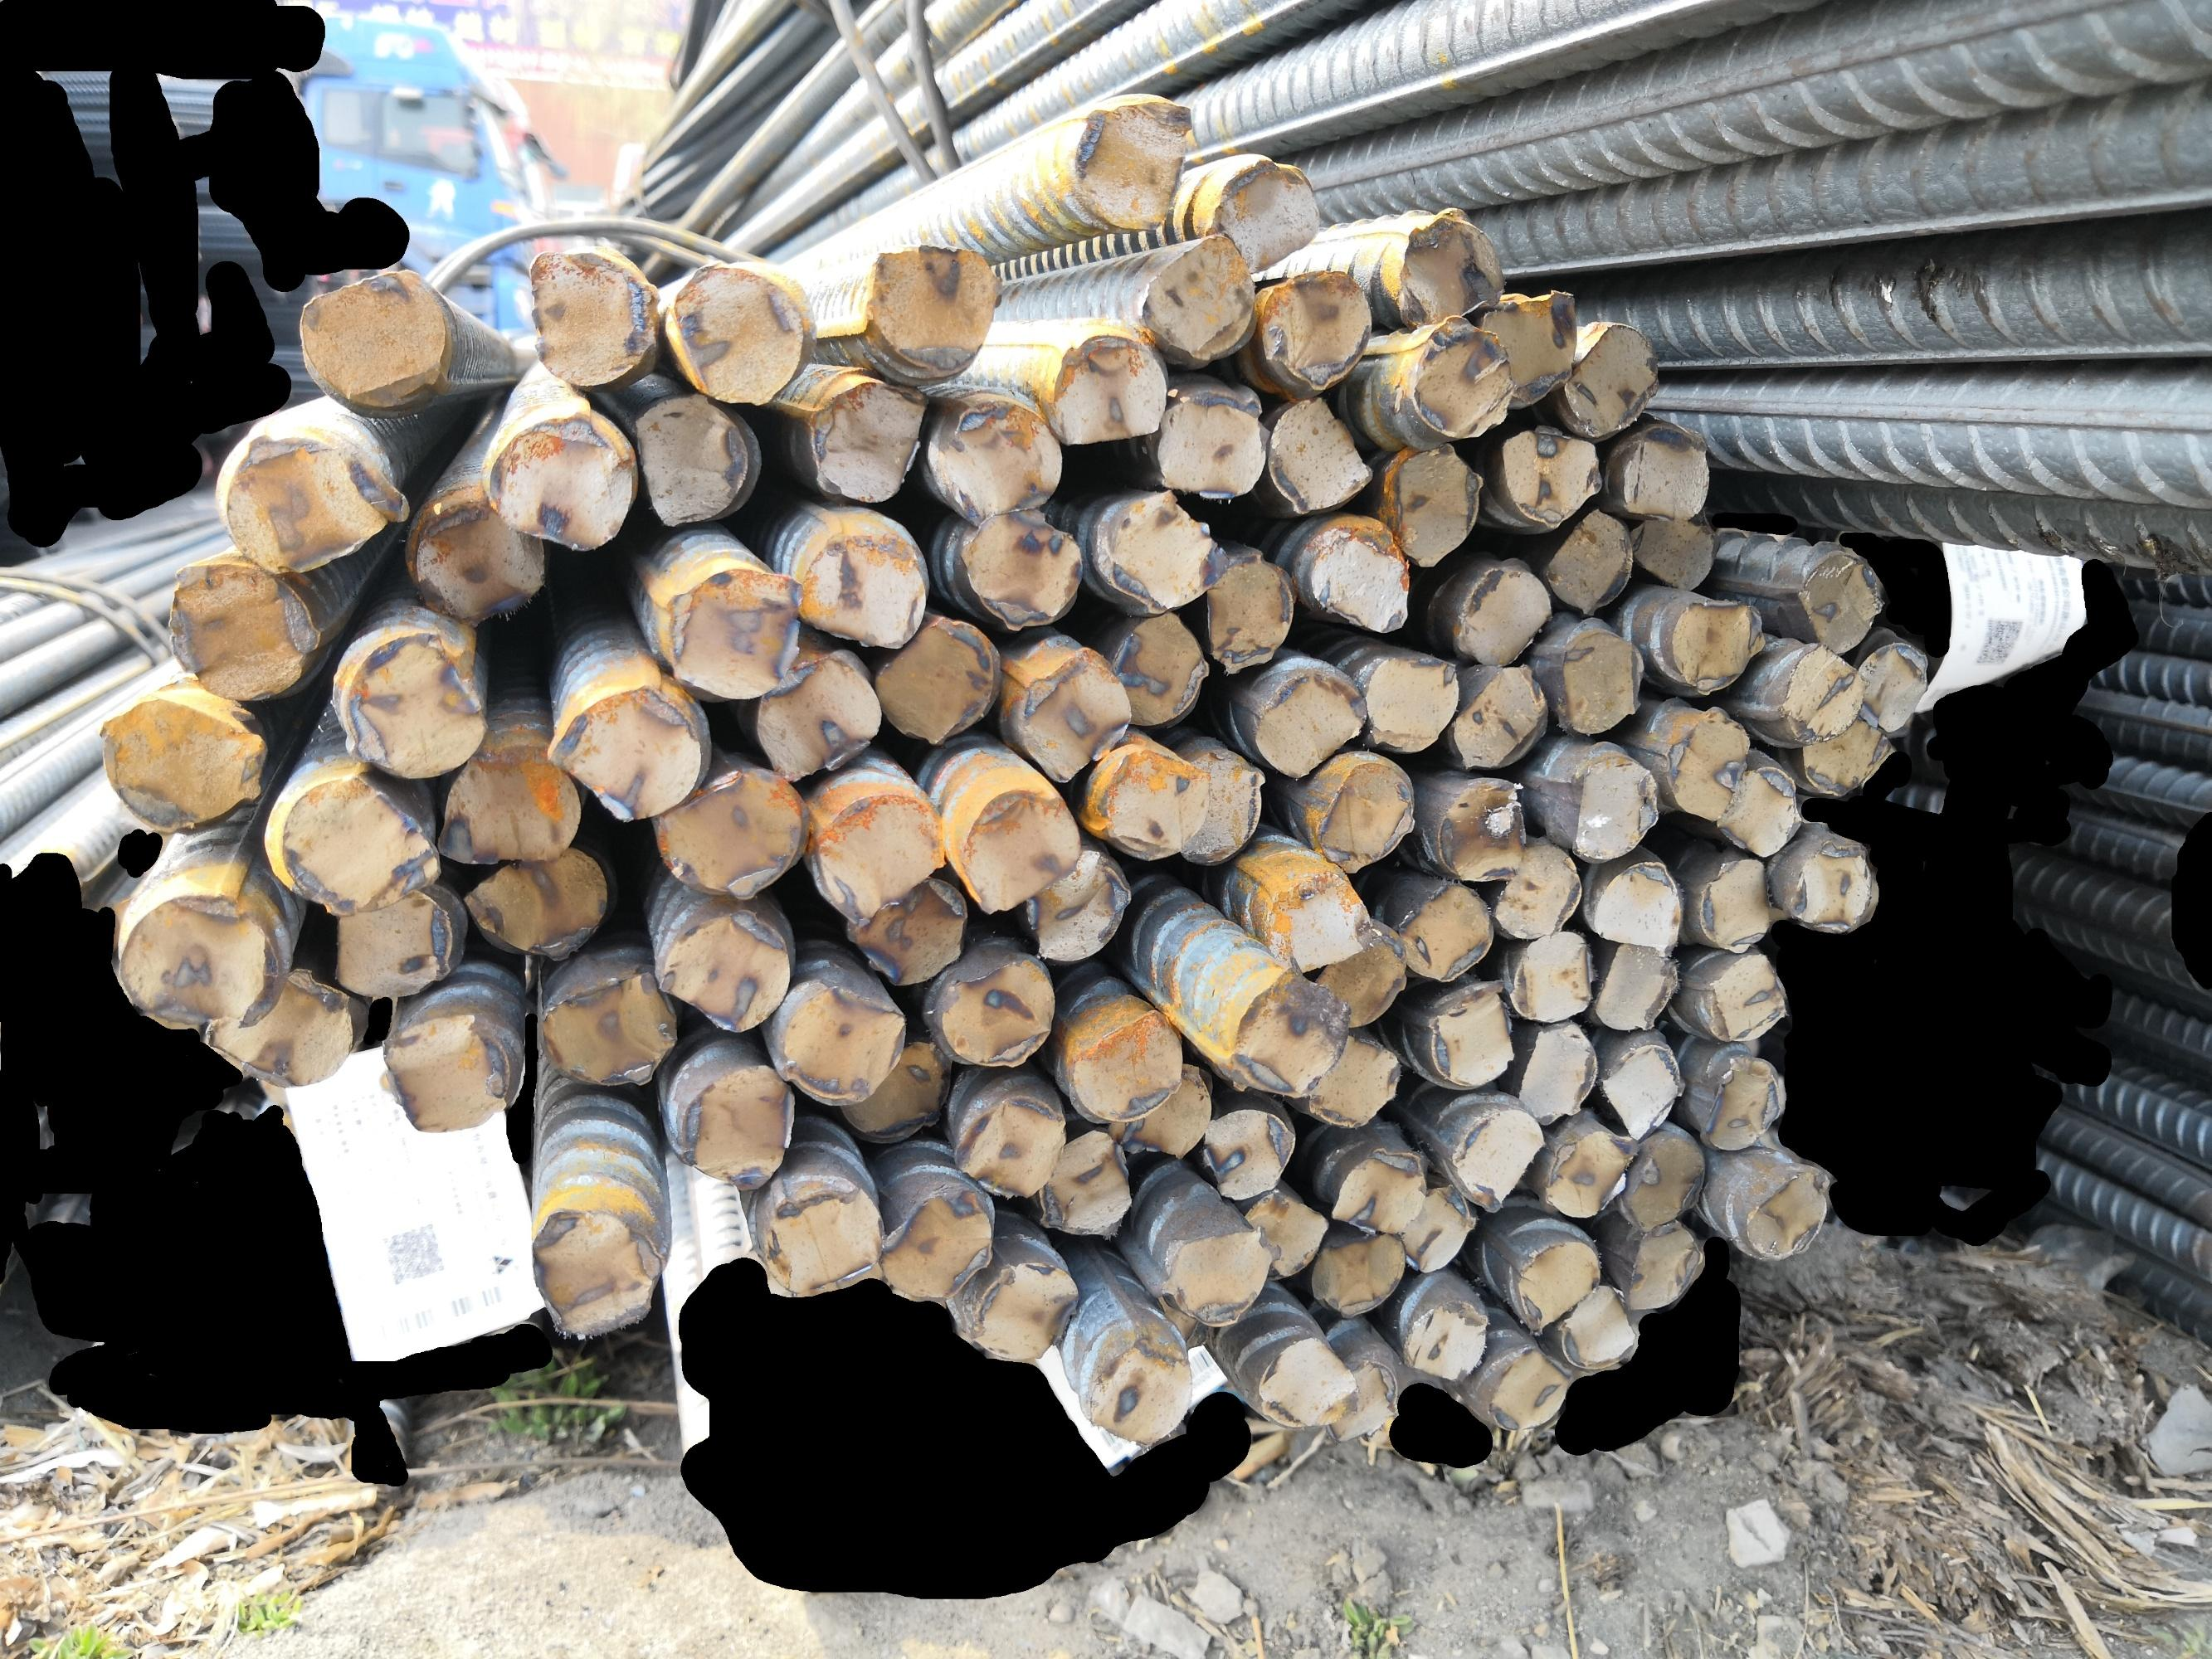bar: (213, 427, 413, 580), (91, 687, 274, 833), (113, 880, 286, 1033), (268, 769, 446, 917), (160, 559, 331, 708), (535, 680, 708, 826), (331, 624, 488, 781), (291, 265, 451, 415), (479, 408, 640, 556), (666, 254, 809, 411), (650, 763, 809, 903), (427, 732, 586, 868), (664, 559, 809, 706), (403, 484, 551, 627), (809, 784, 952, 931), (861, 239, 1011, 378), (525, 1199, 668, 1342), (199, 964, 357, 1091), (1225, 958, 1363, 1105), (1089, 479, 1236, 617), (453, 843, 615, 967), (525, 244, 659, 390), (746, 647, 884, 788), (650, 903, 795, 1037), (533, 967, 685, 1091), (952, 782, 1089, 918), (866, 610, 999, 751), (1011, 640, 1137, 786), (626, 387, 751, 532), (1069, 92, 1194, 235), (777, 976, 910, 1110), (791, 523, 929, 652), (378, 1009, 512, 1140), (1135, 225, 1262, 362), (804, 373, 936, 504), (936, 394, 1065, 525), (955, 500, 1084, 631), (1252, 261, 1377, 396), (675, 1056, 795, 1192), (1062, 1000, 1187, 1127), (1046, 326, 1173, 450), (757, 1175, 885, 1297), (926, 953, 1058, 1072), (1401, 307, 1518, 441), (1196, 153, 1325, 274), (838, 873, 969, 992), (1265, 863, 1393, 983), (873, 1183, 995, 1307), (328, 889, 460, 1000), (1393, 207, 1510, 333), (1264, 390, 1377, 518), (1300, 516, 1417, 638), (1154, 1220, 1281, 1331), (1473, 282, 1579, 415), (1382, 437, 1489, 570), (837, 1032, 955, 1150), (1077, 1331, 1198, 1448), (1098, 742, 1213, 864), (1248, 666, 1372, 779), (1027, 845, 1137, 971), (1102, 610, 1213, 732), (1199, 544, 1297, 681), (948, 1091, 1069, 1202), (1150, 394, 1271, 504), (966, 1253, 1081, 1366), (1443, 655, 1551, 775), (1306, 910, 1408, 1035), (1098, 1054, 1217, 1162), (1496, 420, 1609, 532), (1313, 756, 1417, 877), (1558, 319, 1661, 441), (1443, 1103, 1550, 1218), (1168, 749, 1267, 870), (1449, 563, 1557, 673), (1388, 877, 1497, 985), (1039, 1124, 1135, 1248), (1422, 976, 1520, 1094), (1248, 1330, 1360, 1431), (1539, 504, 1637, 619), (1665, 594, 1771, 699), (1659, 704, 1752, 824), (1431, 772, 1530, 884), (1321, 1140, 1435, 1237), (1565, 751, 1663, 863), (1555, 622, 1649, 737), (1358, 652, 1461, 756), (1614, 418, 1715, 525), (1196, 1100, 1299, 1202), (1304, 1032, 1407, 1134), (1614, 1127, 1712, 1236), (1790, 547, 1886, 657), (1595, 1033, 1687, 1147), (1510, 1016, 1604, 1126), (1691, 854, 1792, 955), (1543, 1126, 1645, 1223), (1306, 1227, 1410, 1323), (1508, 1234, 1604, 1338), (1738, 1164, 1834, 1267), (1590, 854, 1684, 958), (1774, 643, 1869, 746), (1787, 833, 1881, 936), (1698, 1053, 1790, 1157), (1616, 1216, 1708, 1317), (1591, 936, 1684, 1037), (1494, 838, 1584, 939), (1504, 924, 1593, 1026), (1239, 1185, 1330, 1284), (1712, 760, 1802, 857), (1797, 713, 1902, 796), (1700, 948, 1792, 1042), (1396, 1180, 1482, 1279), (1485, 1342, 1576, 1432), (1557, 1279, 1645, 1371), (1846, 636, 1931, 732), (1625, 511, 1720, 594), (1396, 1302, 1490, 1384), (1321, 1359, 1400, 1446), (1321, 1358, 1400, 1445), (1320, 1358, 1398, 1445), (1320, 1356, 1398, 1443), (1318, 1356, 1396, 1443)
